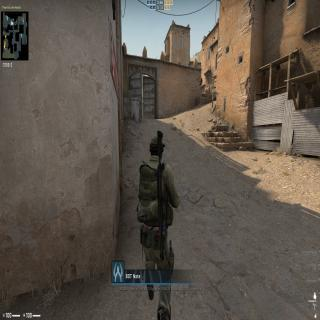CT-Head: (149, 133, 165, 160)
